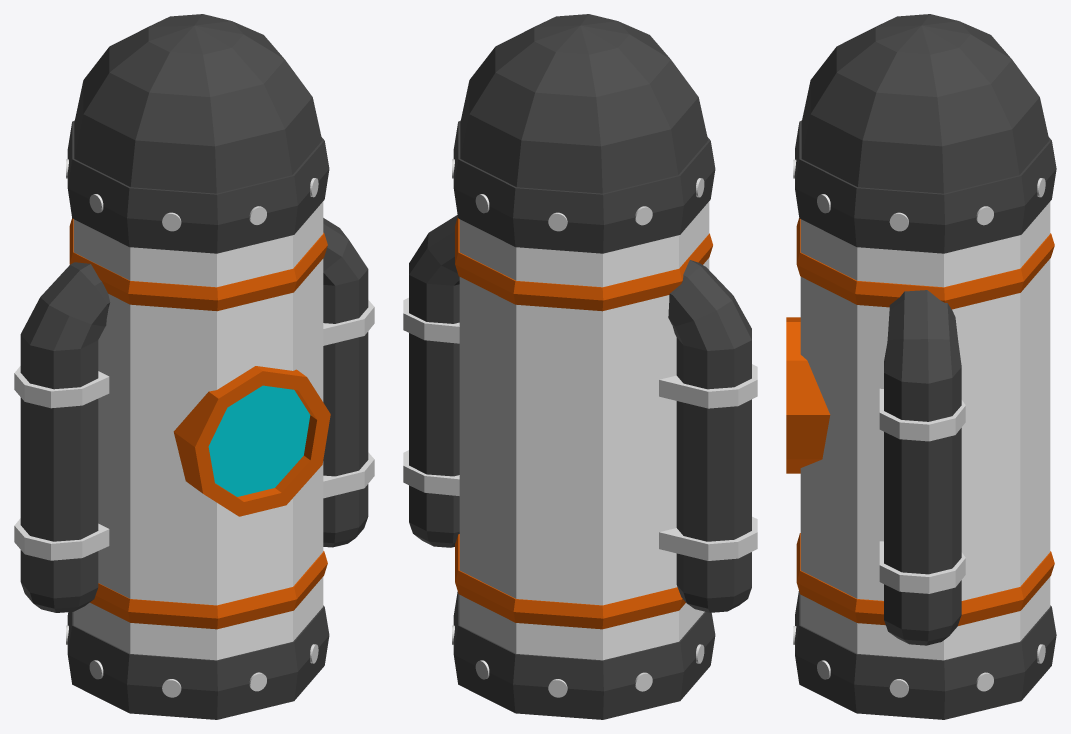
File: Rocket Thin 3.fbx
3 views of the same model, side by side, from view 1: azimuth 30°, elevation 25°; view 2: azimuth 150°, elevation 25°; view 3: azimuth 270°, elevation 25° (orthographic).
Parts seen in each view (by area): view 1: Окружность.004; view 2: Окружность.004; view 3: Окружность.004.
Part boxes in pixels (bbox=[...]): Окружность.004: bbox=[14, 14, 374, 719]; Окружность.004: bbox=[403, 14, 757, 719]; Окружность.004: bbox=[786, 14, 1056, 719].
Bounding box in the file's own units: 311 × 549 × 210.
